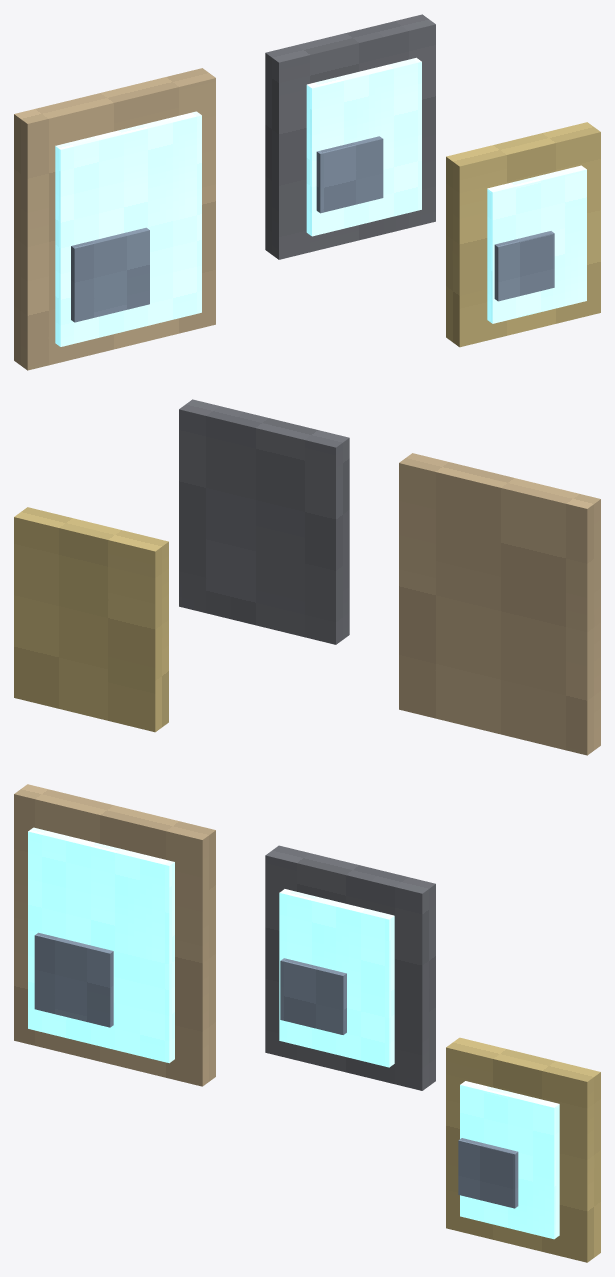
The model's file is pixel-modern-apartments-framed-photos-b2d405b3__29862.glb.
3 views of the same model, one above another, from view 1: azimuth 30°, elevation 25°; view 2: azimuth 150°, elevation 25°; view 3: azimuth 330°, elevation 25° (orthographic).
Visible parts, largest first — view 1: framed-photos; view 2: framed-photos; view 3: framed-photos.
Boxes of the visible parts, <box> form: framed-photos: <box>14,14,600,370</box>; framed-photos: <box>14,399,600,755</box>; framed-photos: <box>14,784,600,1262</box>.
Bounding box in the file's own units: 0.73 × 0.4 × 0.059.
Materials: 5 (5 with a texture image).
